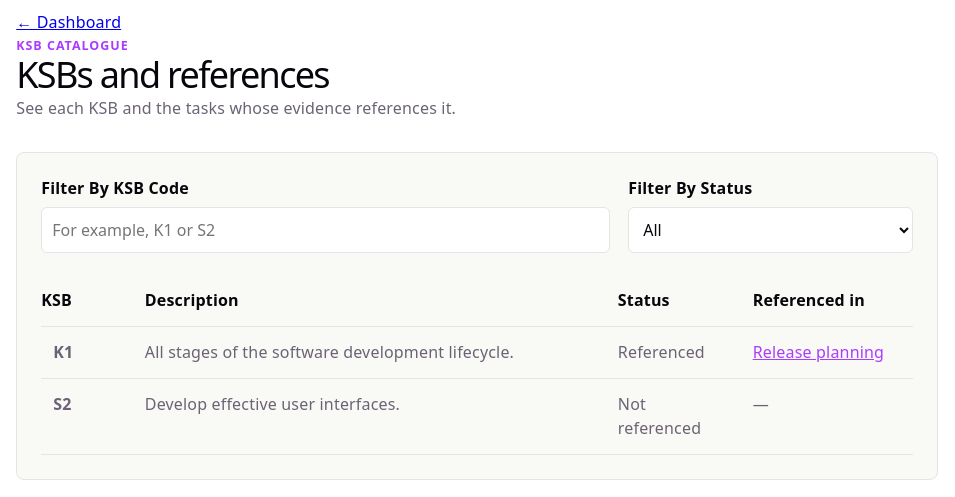
Test case: KsbDetailPage › filters by status and KSB code
The image size is (955, 497).
Select "Referenced" in the dropdown labelled "Filter by status" at (771, 230), box x1=628 y1=207 x2=913 y2=253
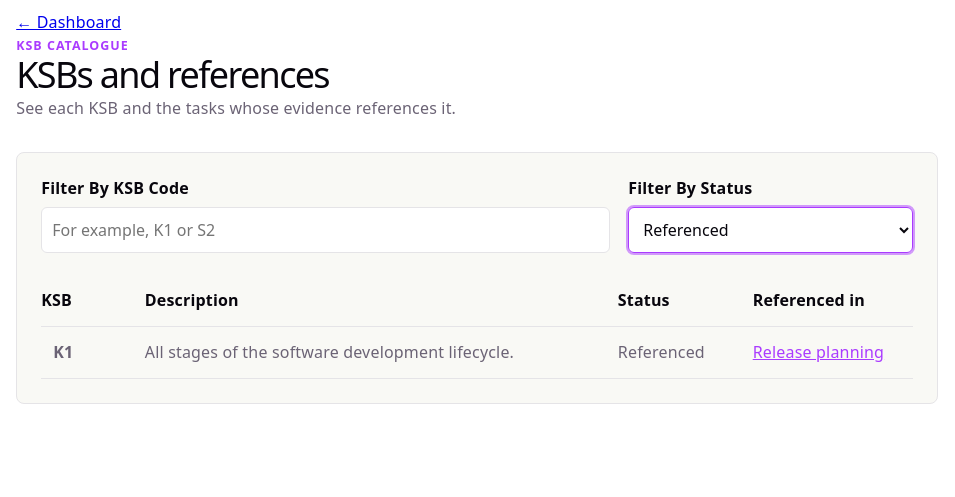
Check: the text "K1" is shown, box x1=53 y1=341 x2=73 y2=363
Select "All" in the dropdown labelled "Filter by status" at (771, 230), box x1=628 y1=207 x2=913 y2=253
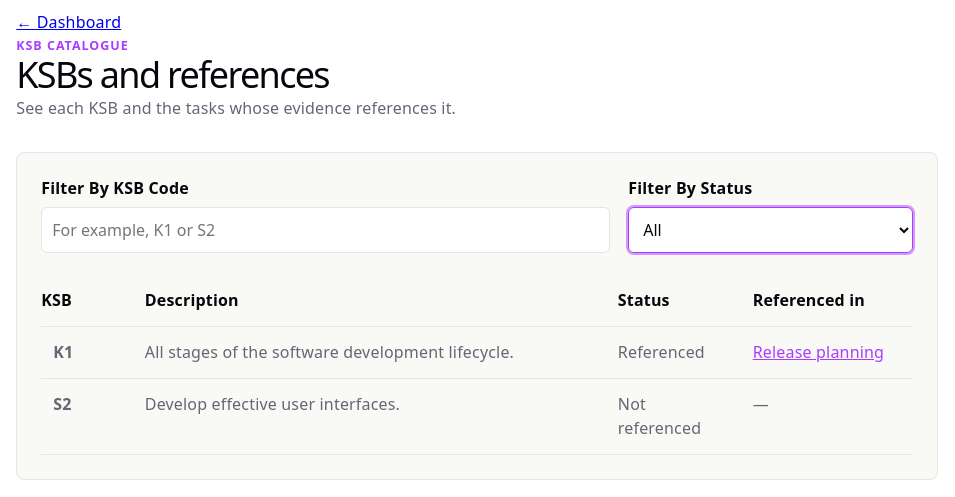
Type "s2" into the search field labelled "Filter by KSB code" at (326, 230), box x1=41 y1=207 x2=610 y2=253
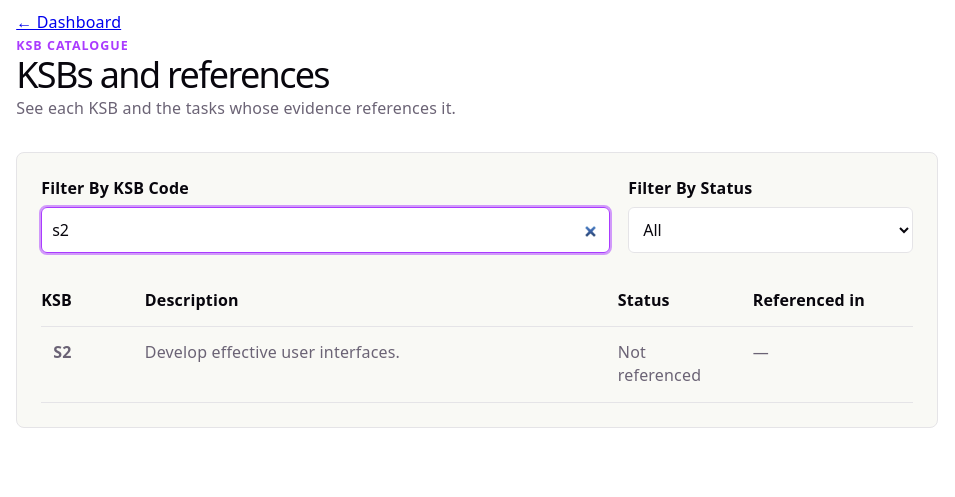
Check: the text "S2" is shown, box x1=53 y1=341 x2=72 y2=363
Check: the text "K1" is gone
